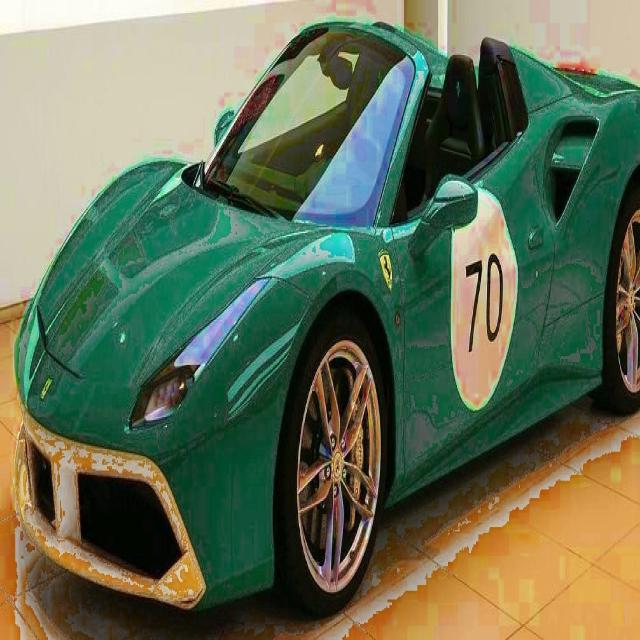green: (12, 18, 640, 614)
